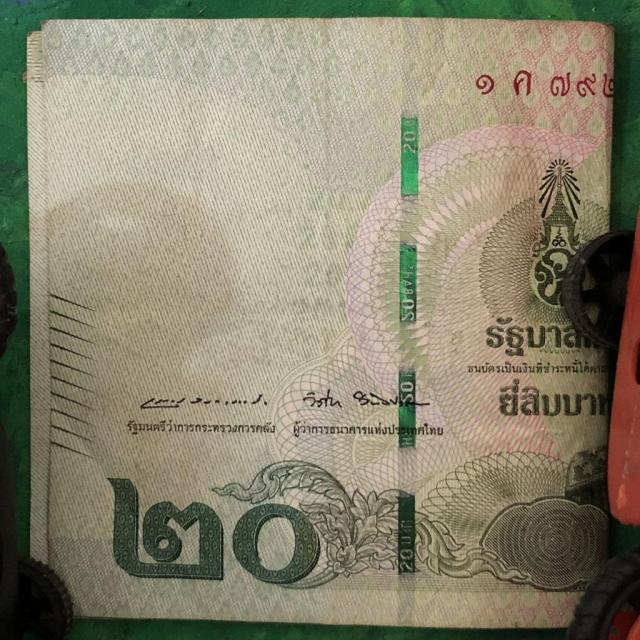THAI20: (28, 18, 614, 626)
